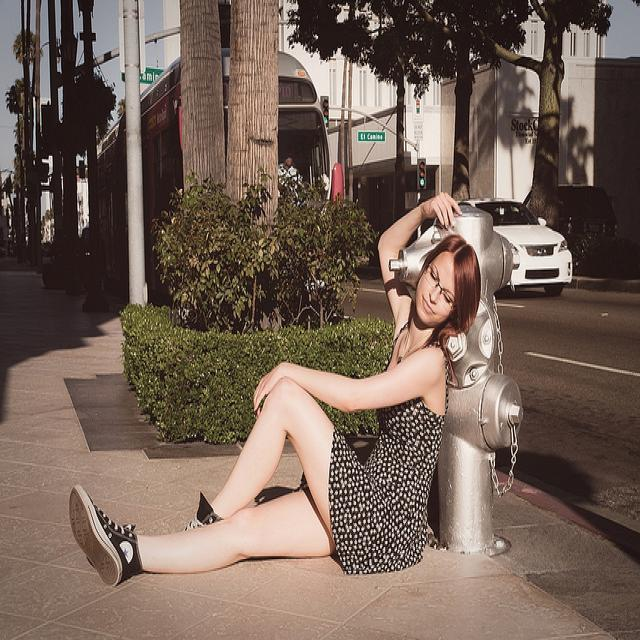Vehicle: (96, 47, 332, 305), (464, 195, 574, 296), (523, 180, 620, 252), (42, 244, 90, 288)
